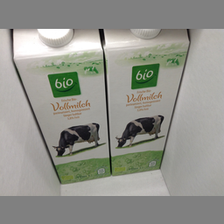milk: (10, 27, 112, 184), (104, 27, 197, 177)
